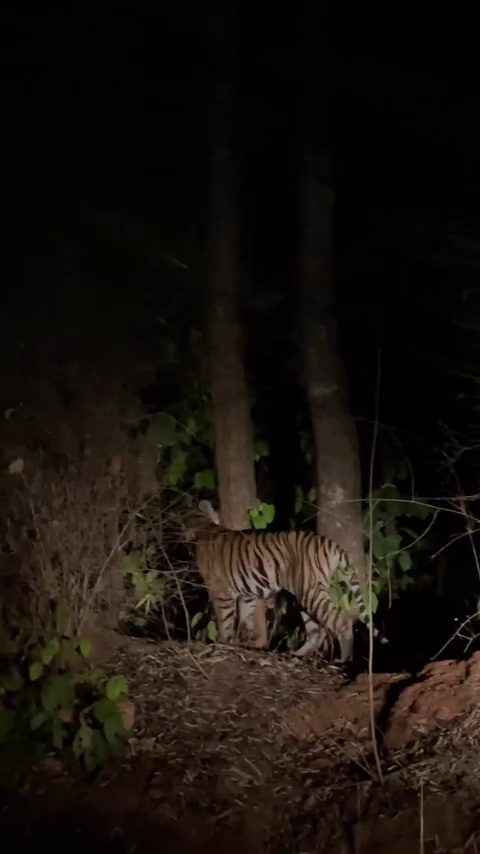Tiger: (166, 495, 389, 661)
